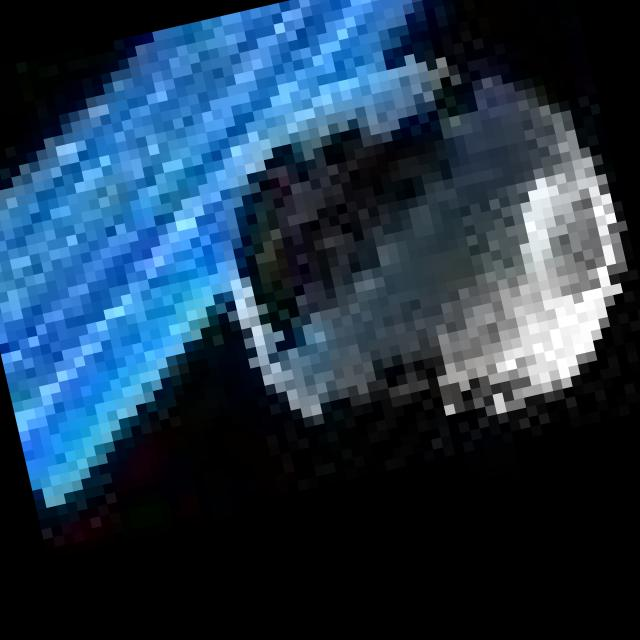Death Star: (172, 30, 640, 490)
